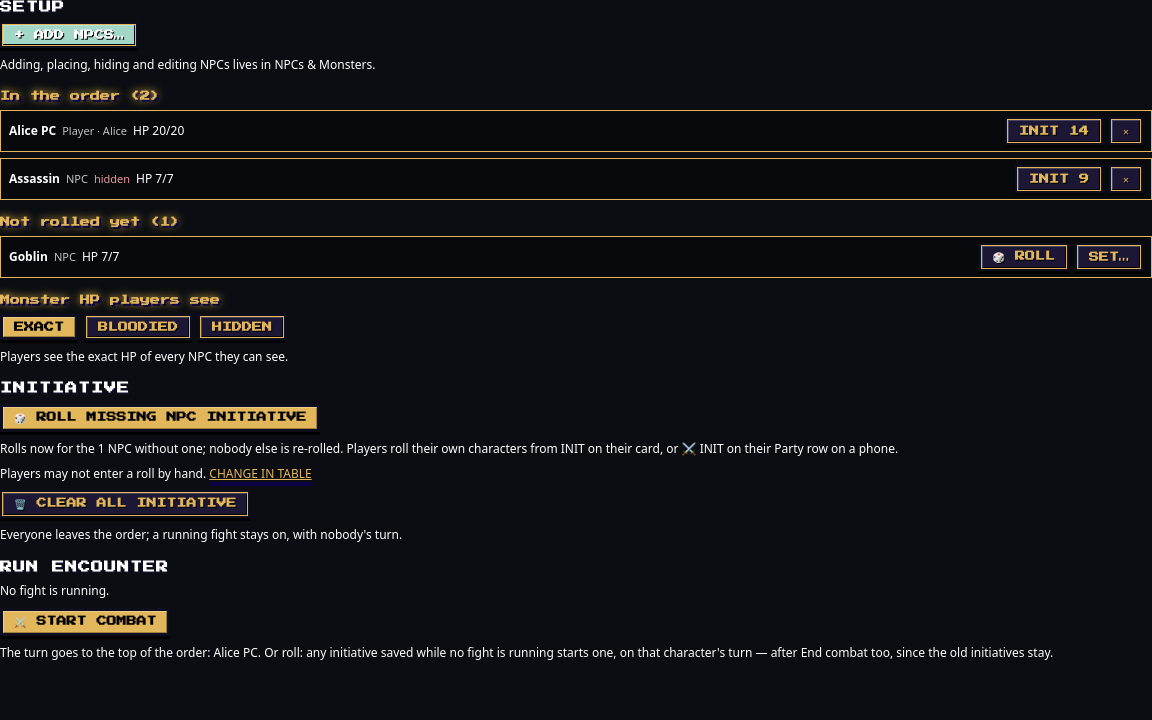
it: EncounterTab — the participant list › the DM keeps hand entry in that dialog even where players may not type a roll
Click the button with aria-label "Set initiative for Goblin" at (1109, 257), box [1075,243,1143,271]
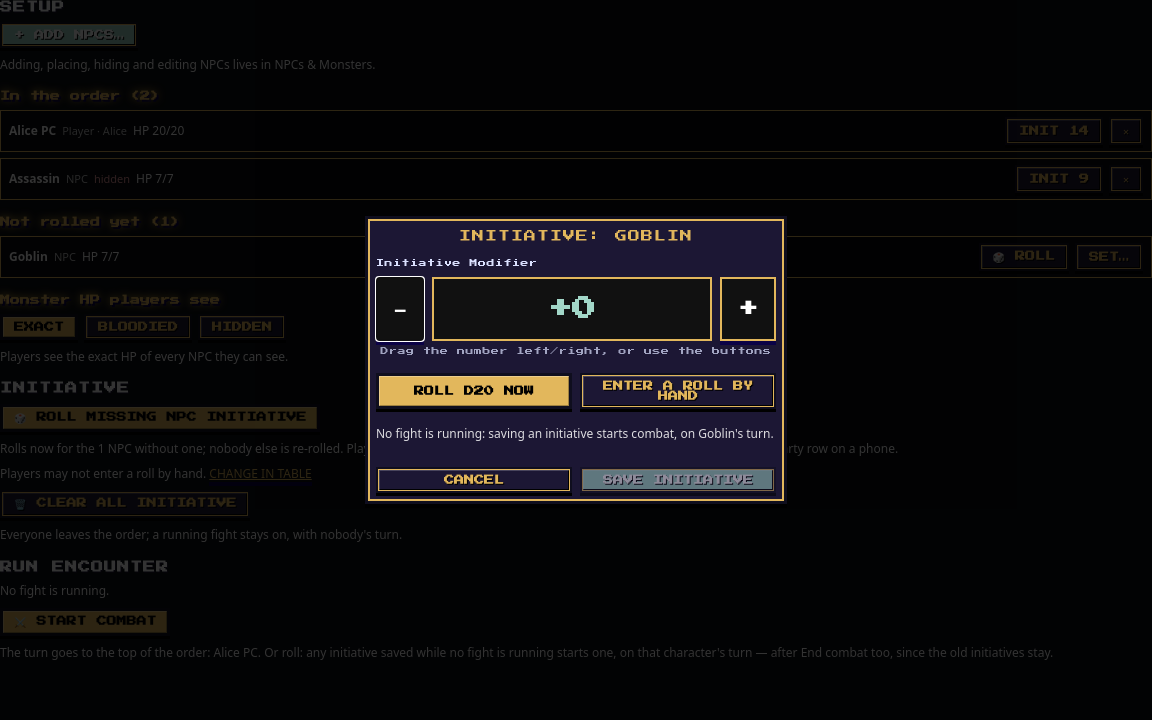
Expected: the button "Enter a roll by hand" is shown, [580,373,776,409]
